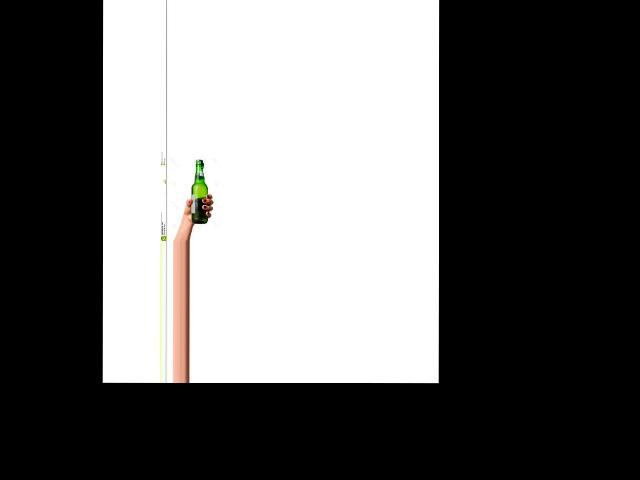beer: (190, 159, 207, 223)
